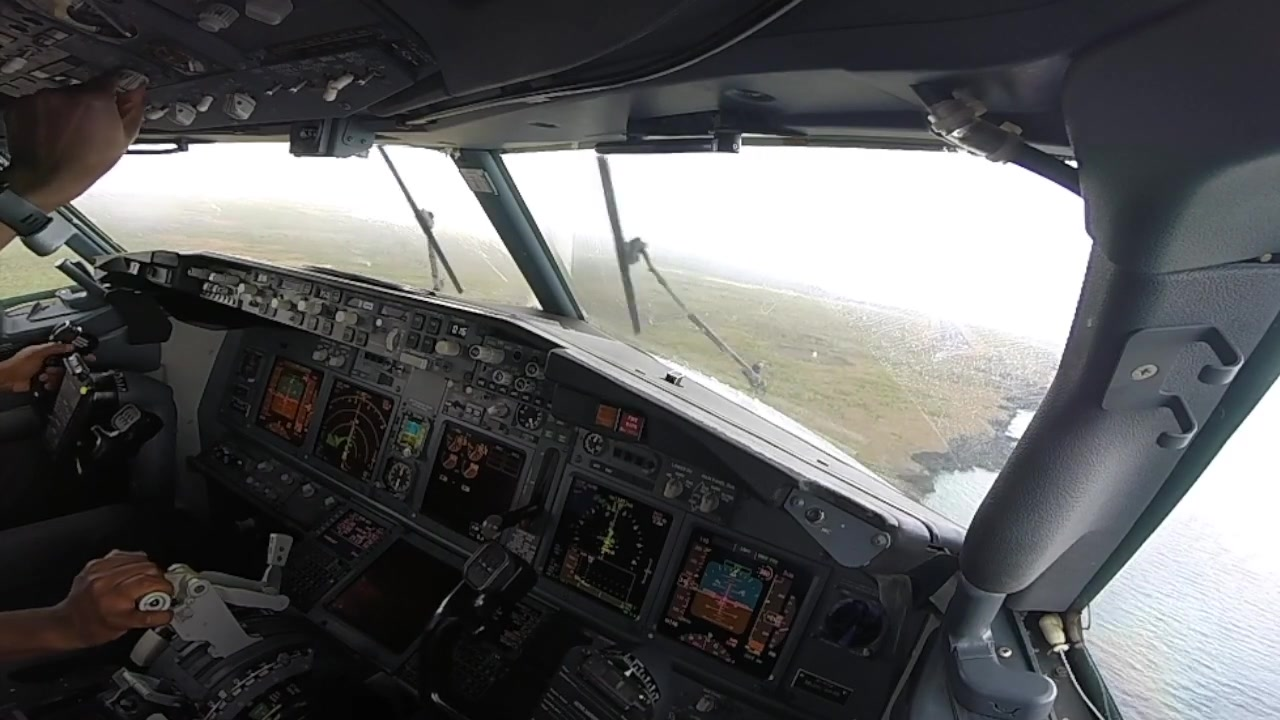runway: (924, 313, 977, 355)
